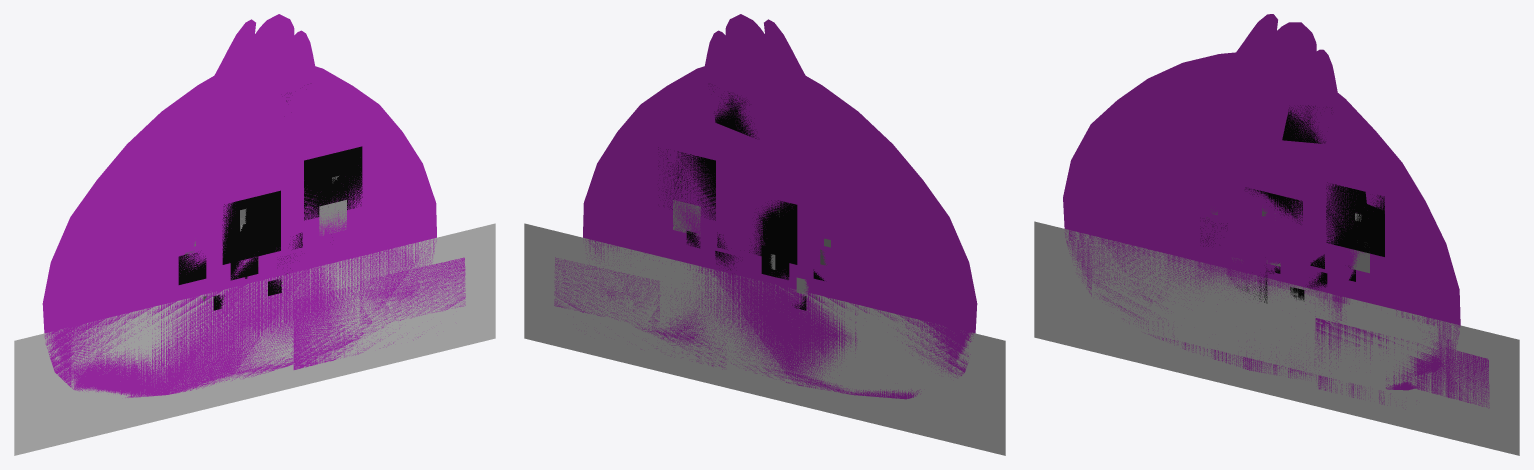
Rendered from Skeleton Prefab Mesh _Eb_KingSlime_04_.glb.
3 views of the same model, side by side, from view 1: azimuth 30°, elevation 25°; view 2: azimuth 150°, elevation 25°; view 3: azimuth 330°, elevation 25° (orthographic).
Visible parts, largest first — view 1: Skeleton Prefab Mesh "Eb_KingSlime_04"; view 2: Skeleton Prefab Mesh "Eb_KingSlime_04"; view 3: Skeleton Prefab Mesh "Eb_KingSlime_04".
Boxes of the visible parts, left/top/right/bottom form: Skeleton Prefab Mesh "Eb_KingSlime_04": left=14, top=14, right=495, bottom=455; Skeleton Prefab Mesh "Eb_KingSlime_04": left=524, top=14, right=1005, bottom=455; Skeleton Prefab Mesh "Eb_KingSlime_04": left=1034, top=14, right=1519, bottom=455.
Size of the model in its own units: 5.03 by 3.78 by 0.
